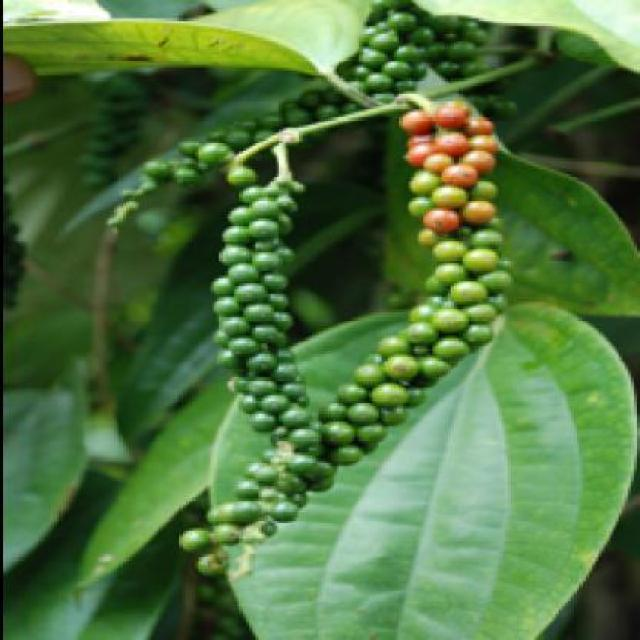RIPE: (412, 99, 499, 232)
UNRIPE: (183, 239, 511, 573), (147, 89, 364, 183), (361, 5, 493, 94), (228, 174, 310, 240)
